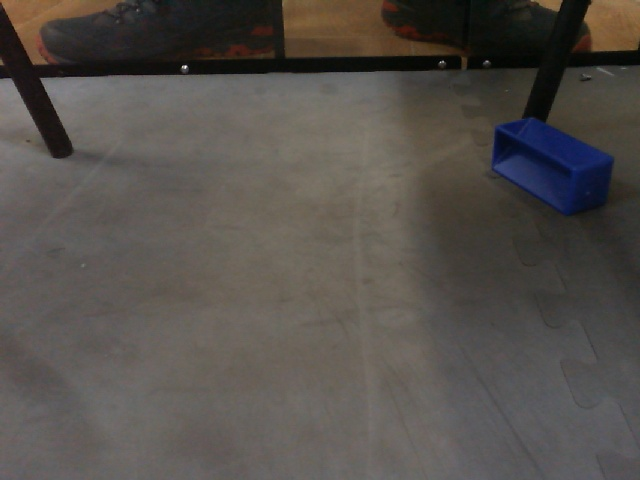BlueSample: (489, 118, 617, 216)
